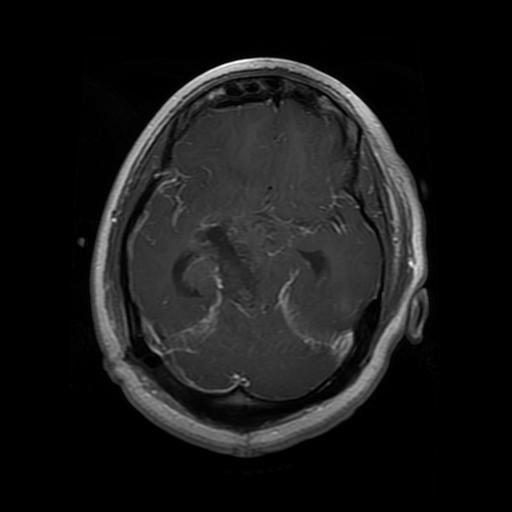Tumour-Glioma: (181, 227, 274, 314)
